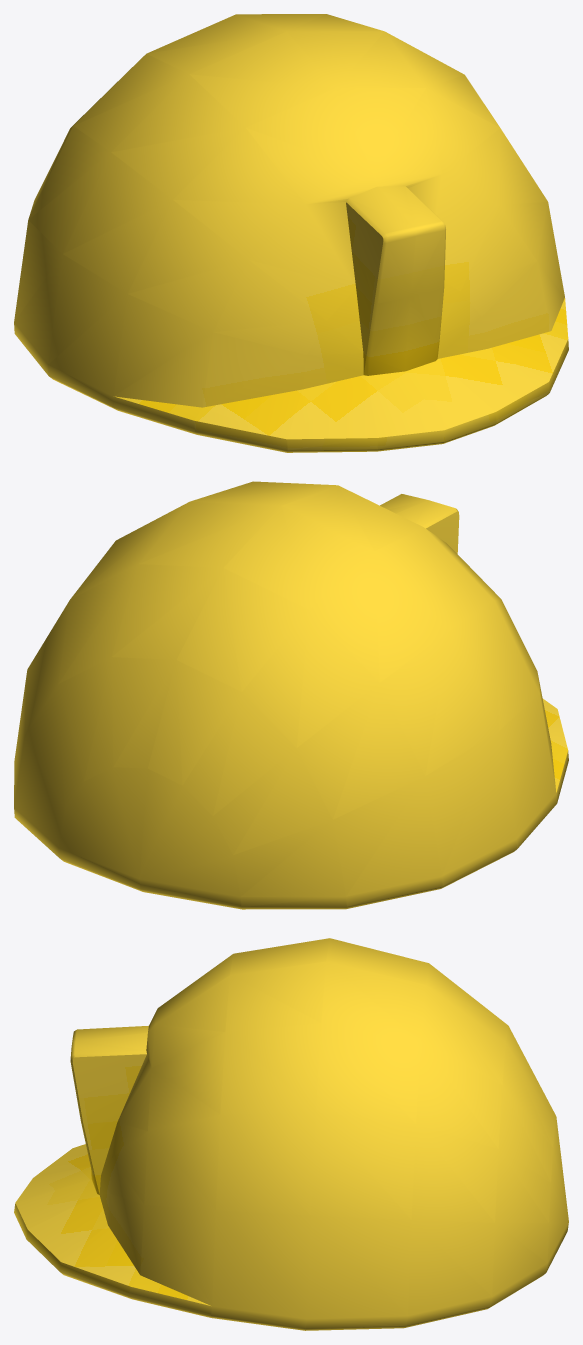
The model's file is builder-helmet.glb.
The picture shows the model from 3 angles, top to bottom: view 1: azimuth 30°, elevation 25°; view 2: azimuth 150°, elevation 25°; view 3: azimuth 270°, elevation 25°; orthographic projection. The views are drawn at different scales.
Parts seen in each view (by area): view 1: Object_4.001; view 2: Object_4.001; view 3: Object_4.001.
Boxes of the visible parts, x1,y1,x2,y2 form: Object_4.001: (14, 14, 568, 452); Object_4.001: (14, 481, 568, 909); Object_4.001: (14, 938, 568, 1330).
Size of the model in its own units: 1.64 by 0.983 by 1.82.
1 material, 1 textured.
